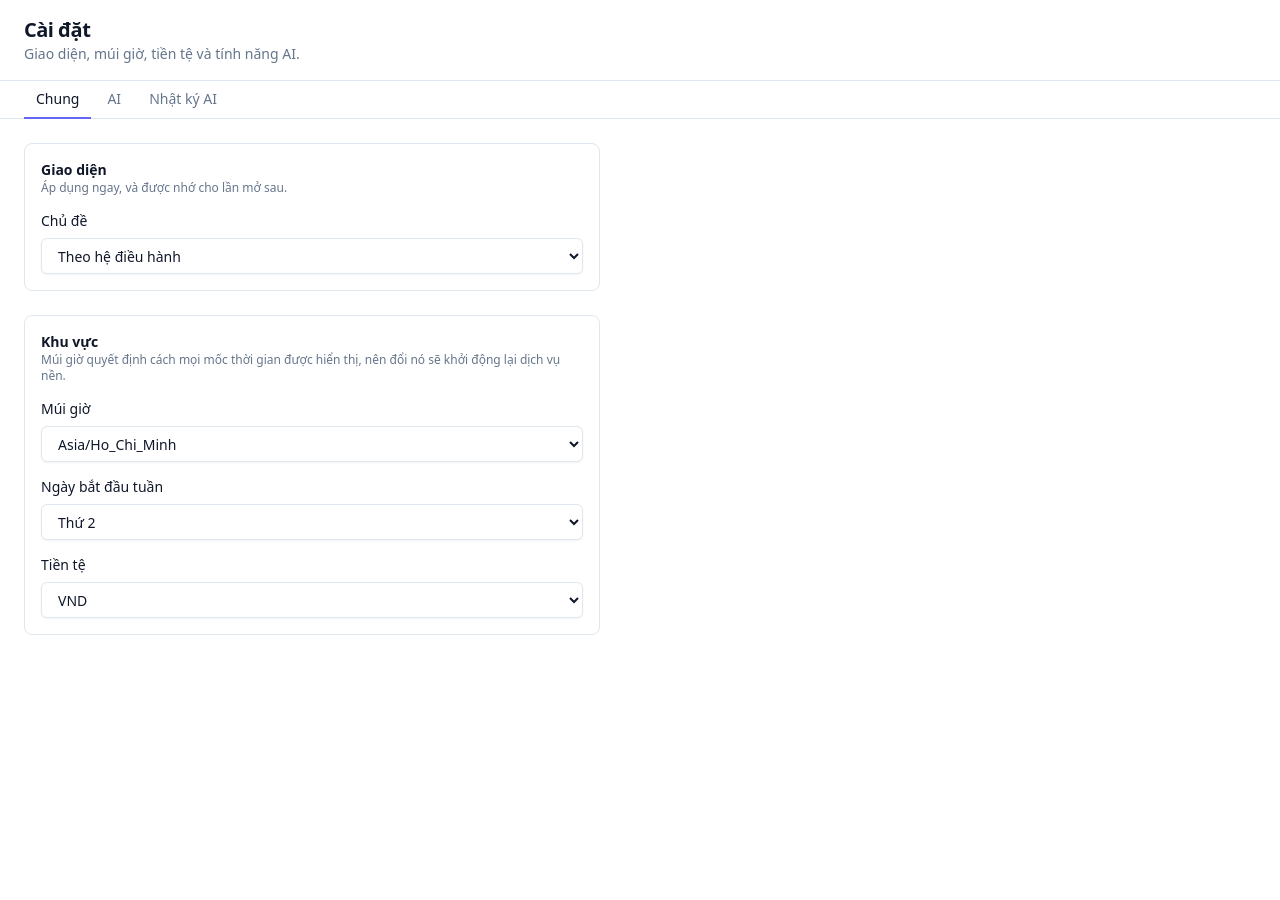
Test: SettingsPage › Chưa có key thì nút Kiểm tra kết nối bị vô hiệu hóa
What coordinates should you click on to do the following:
click the button "AI"
I would click on:
 (114, 100)
Its box is [95,81,133,119].
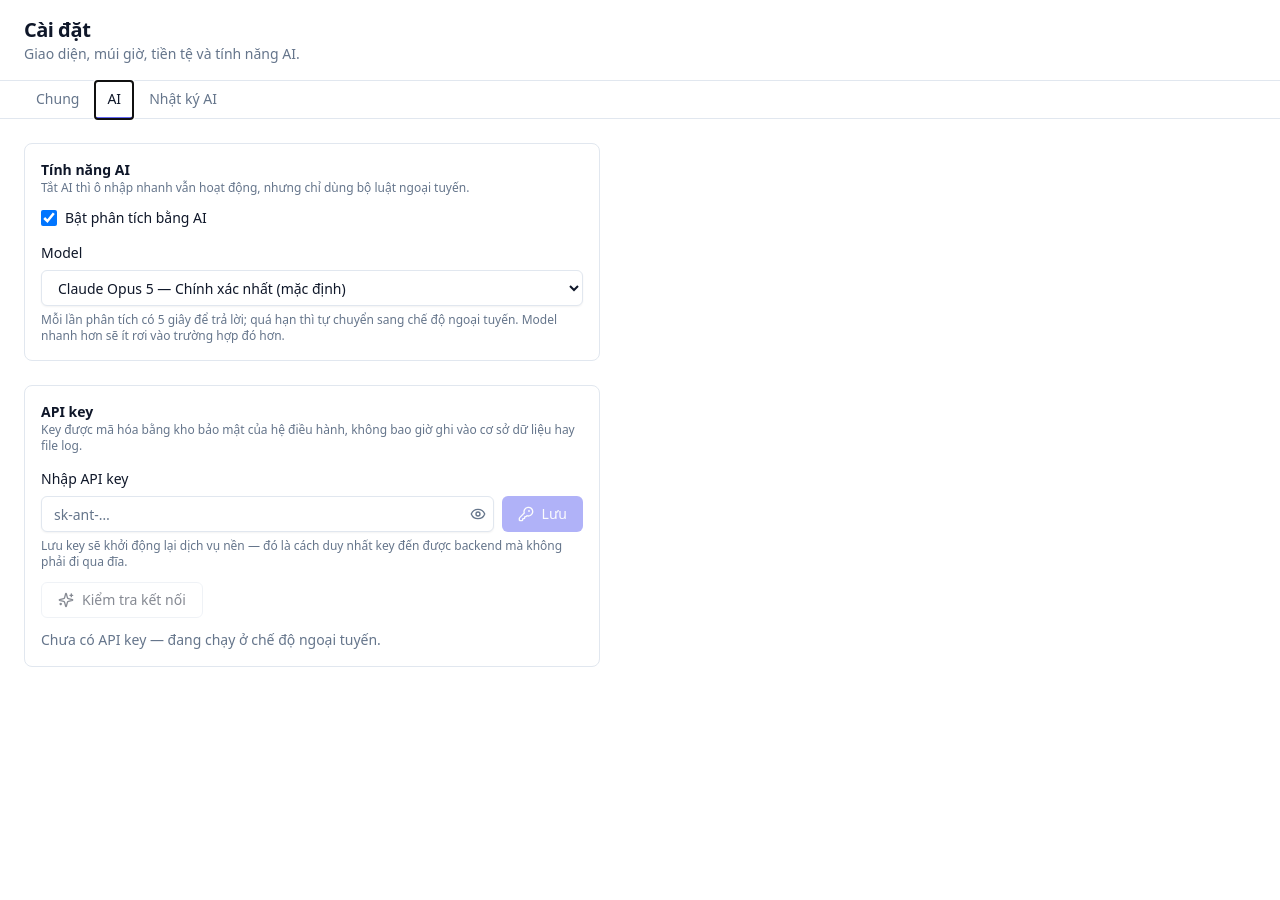
expect the button "Kiểm tra kết nối" is disabled: met, box [41,582,203,618]
expect the text "Chưa có API key — đang chạy ở chế độ ngoại tuyến." is shown: met, box [41,630,381,649]
